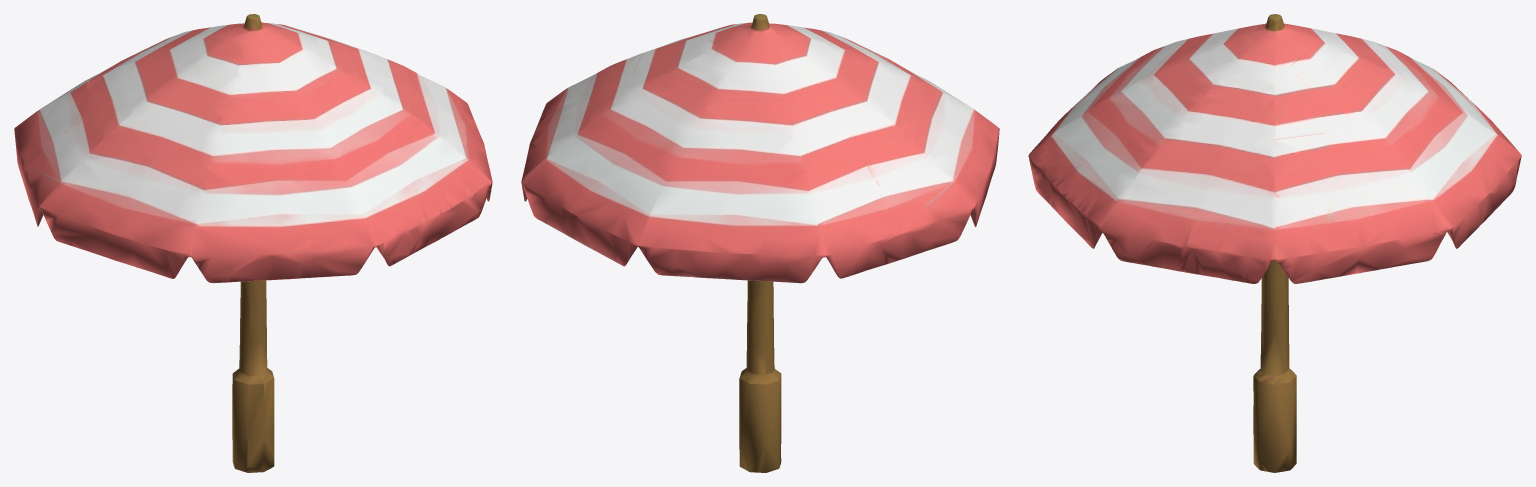
File: umbrella.glb
The picture shows the model from 3 angles, left to right: view 1: azimuth 30°, elevation 25°; view 2: azimuth 150°, elevation 25°; view 3: azimuth 270°, elevation 25°; orthographic projection.
Visible parts, largest first — view 1: Mesh_0; view 2: Mesh_0; view 3: Mesh_0.
Boxes of the visible parts, x1,y1,x2,y2 form: Mesh_0: (14, 14, 492, 472); Mesh_0: (521, 14, 999, 472); Mesh_0: (1028, 14, 1521, 472).
Bounding box in the file's own units: 1.91 × 1.91 × 1.91.
1 material, 1 textured.
